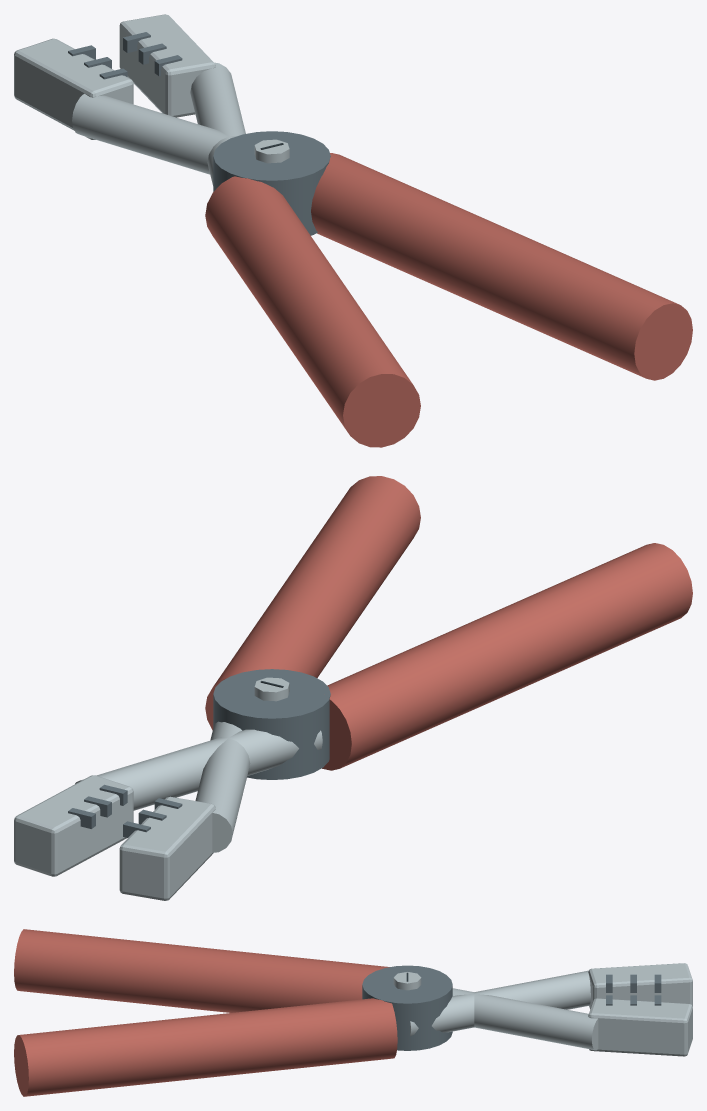
The model's file is loot_pliers.glb.
The picture shows the model from 3 angles, top to bottom: view 1: azimuth 30°, elevation 25°; view 2: azimuth 150°, elevation 25°; view 3: azimuth 270°, elevation 25°; orthographic projection. The views are drawn at different scales.
Visible parts, largest first — view 1: loot_pliers; view 2: loot_pliers; view 3: loot_pliers.
Part boxes in pixels (box(x1,y1,x2,y2)): loot_pliers: box(14, 14, 692, 447); loot_pliers: box(14, 476, 692, 900); loot_pliers: box(14, 929, 692, 1096).
Size of the model in its own units: 0.0895 by 0.0205 by 0.1952.
